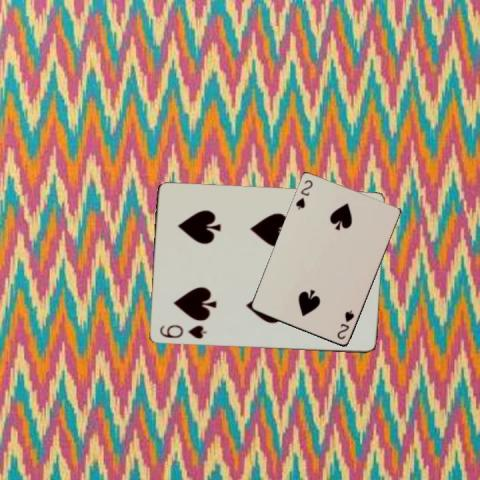2s: (334, 307, 355, 341), (293, 177, 314, 211)
6s: (157, 322, 207, 341)
